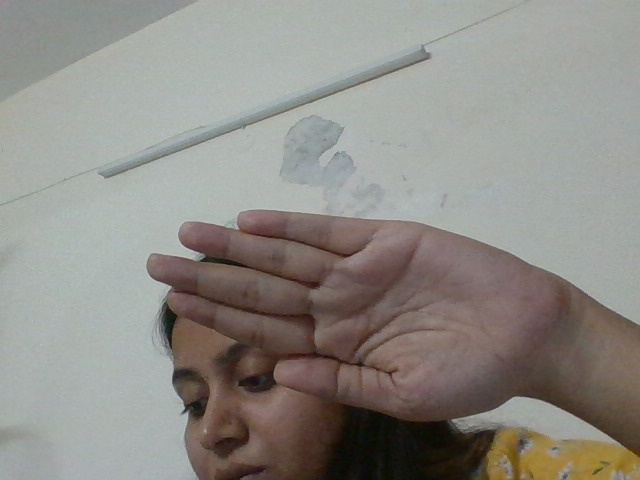play: (135, 178, 591, 436)
